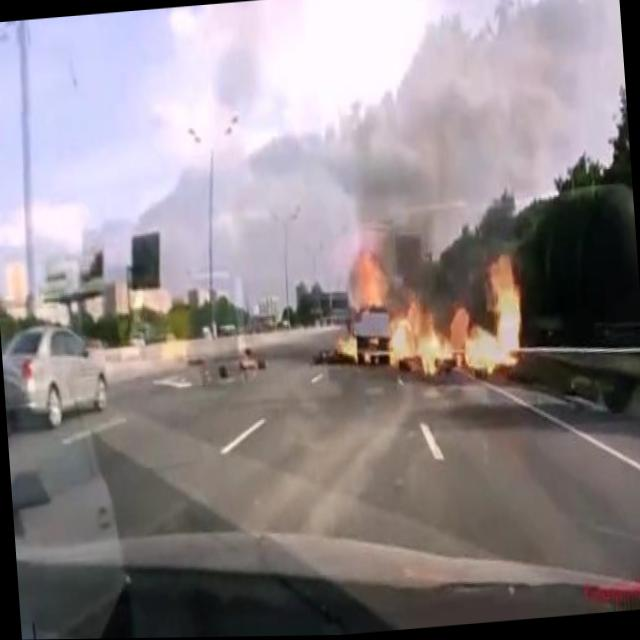fire: (329, 230, 529, 395)
